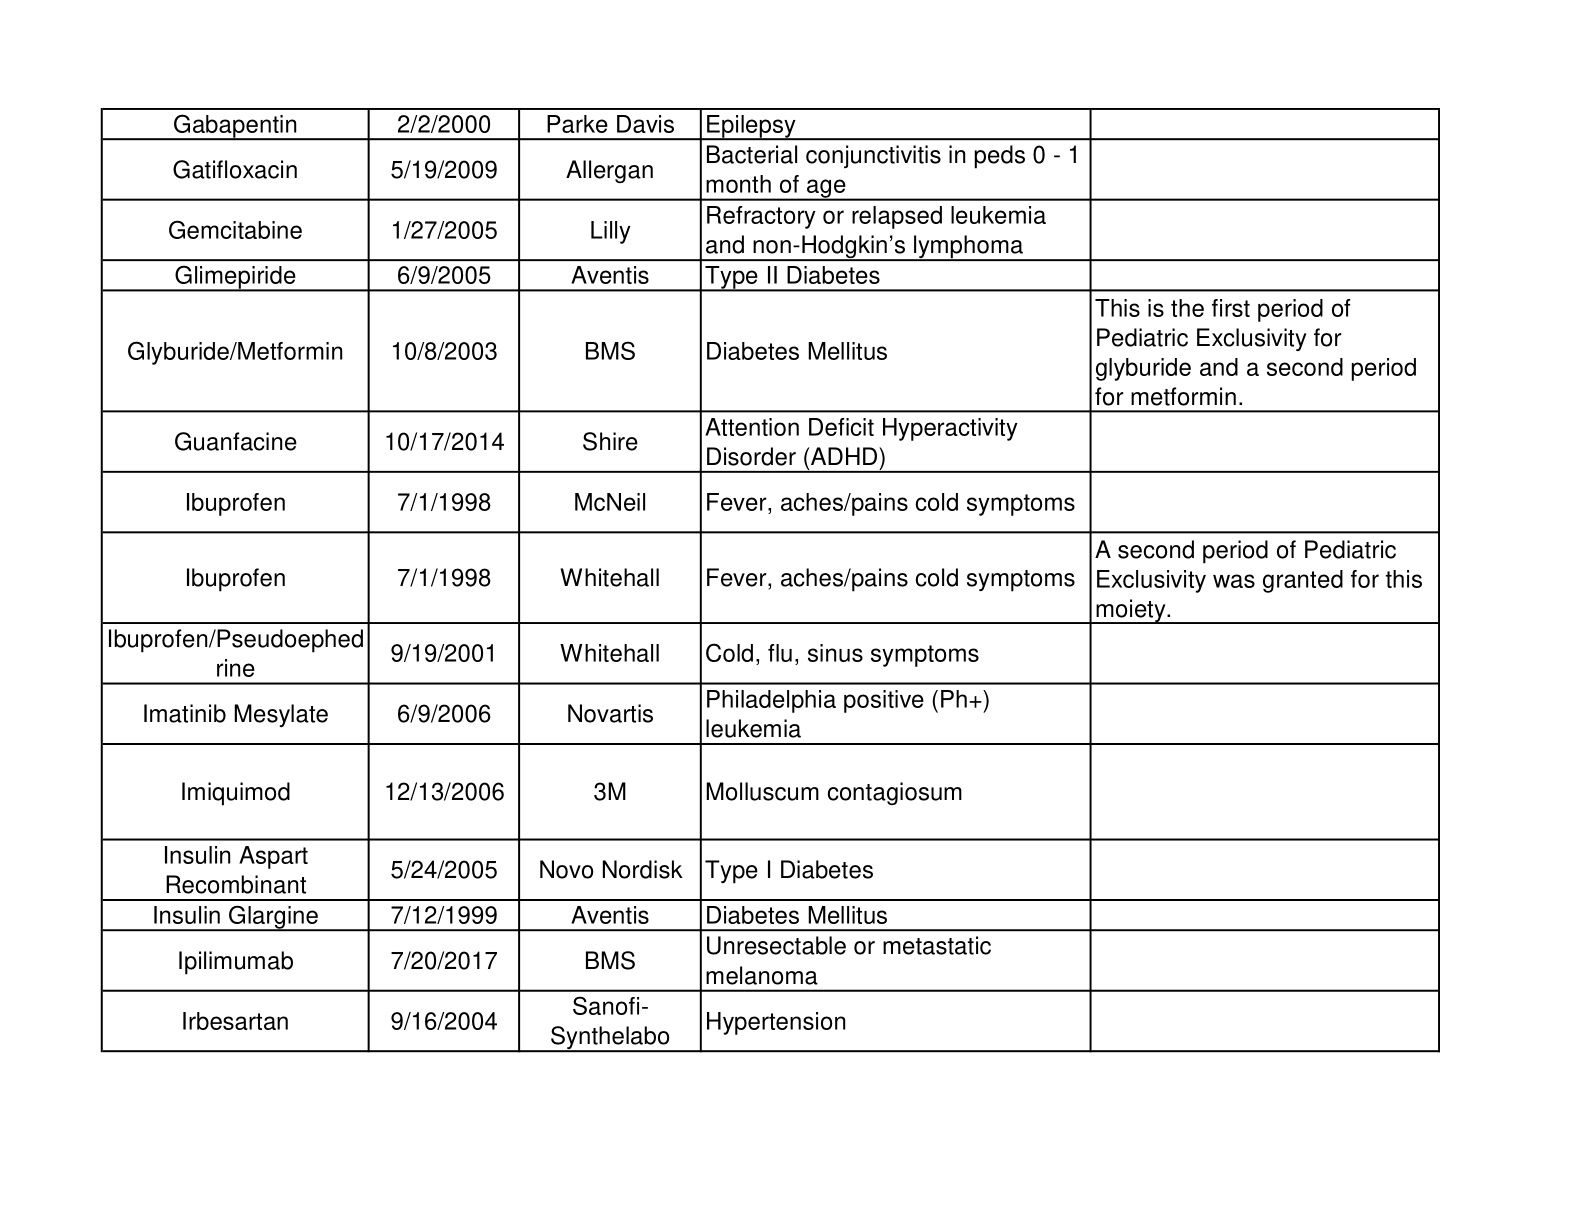full_lined: (100, 107, 1440, 1053)
